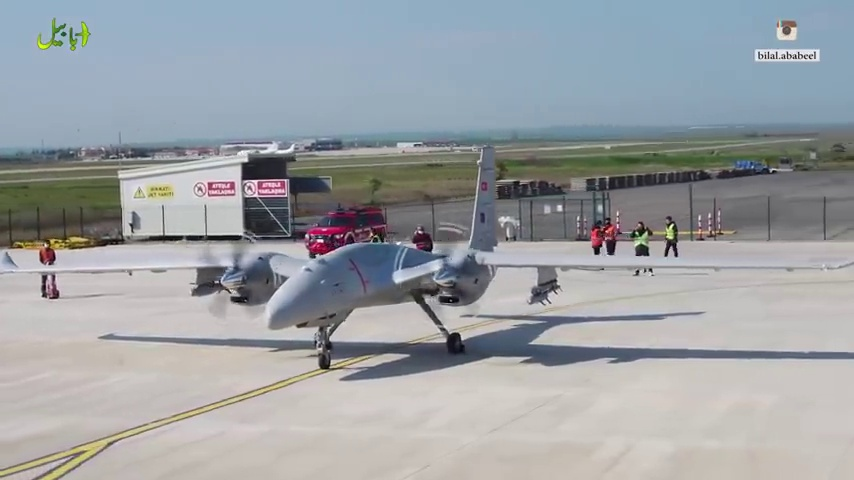military drone: (0, 144, 854, 370)
